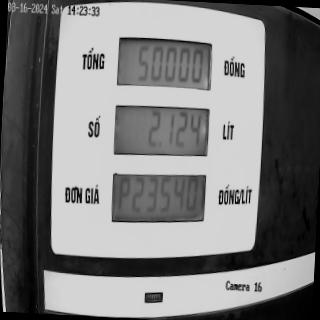screen: (107, 31, 215, 233)
